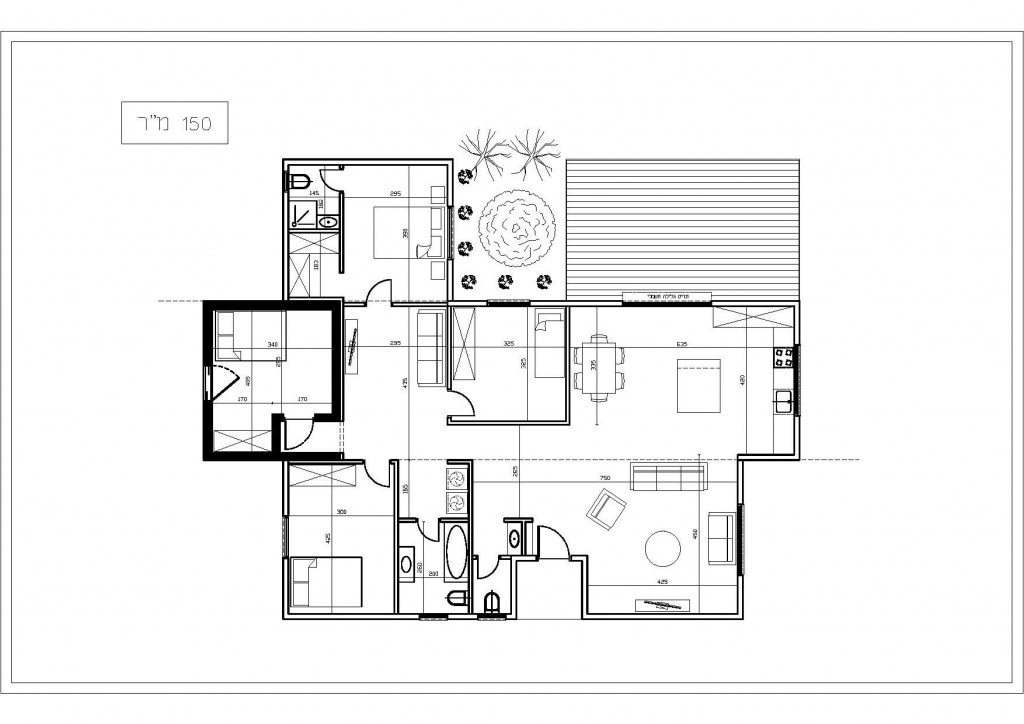door: (534, 522, 570, 552), (363, 274, 397, 301), (282, 424, 315, 451), (455, 388, 483, 418), (361, 466, 391, 491), (412, 525, 442, 546), (316, 167, 337, 191), (475, 562, 501, 581)
wall: (207, 451, 324, 460), (205, 302, 338, 309), (333, 303, 339, 417), (202, 404, 212, 458)
